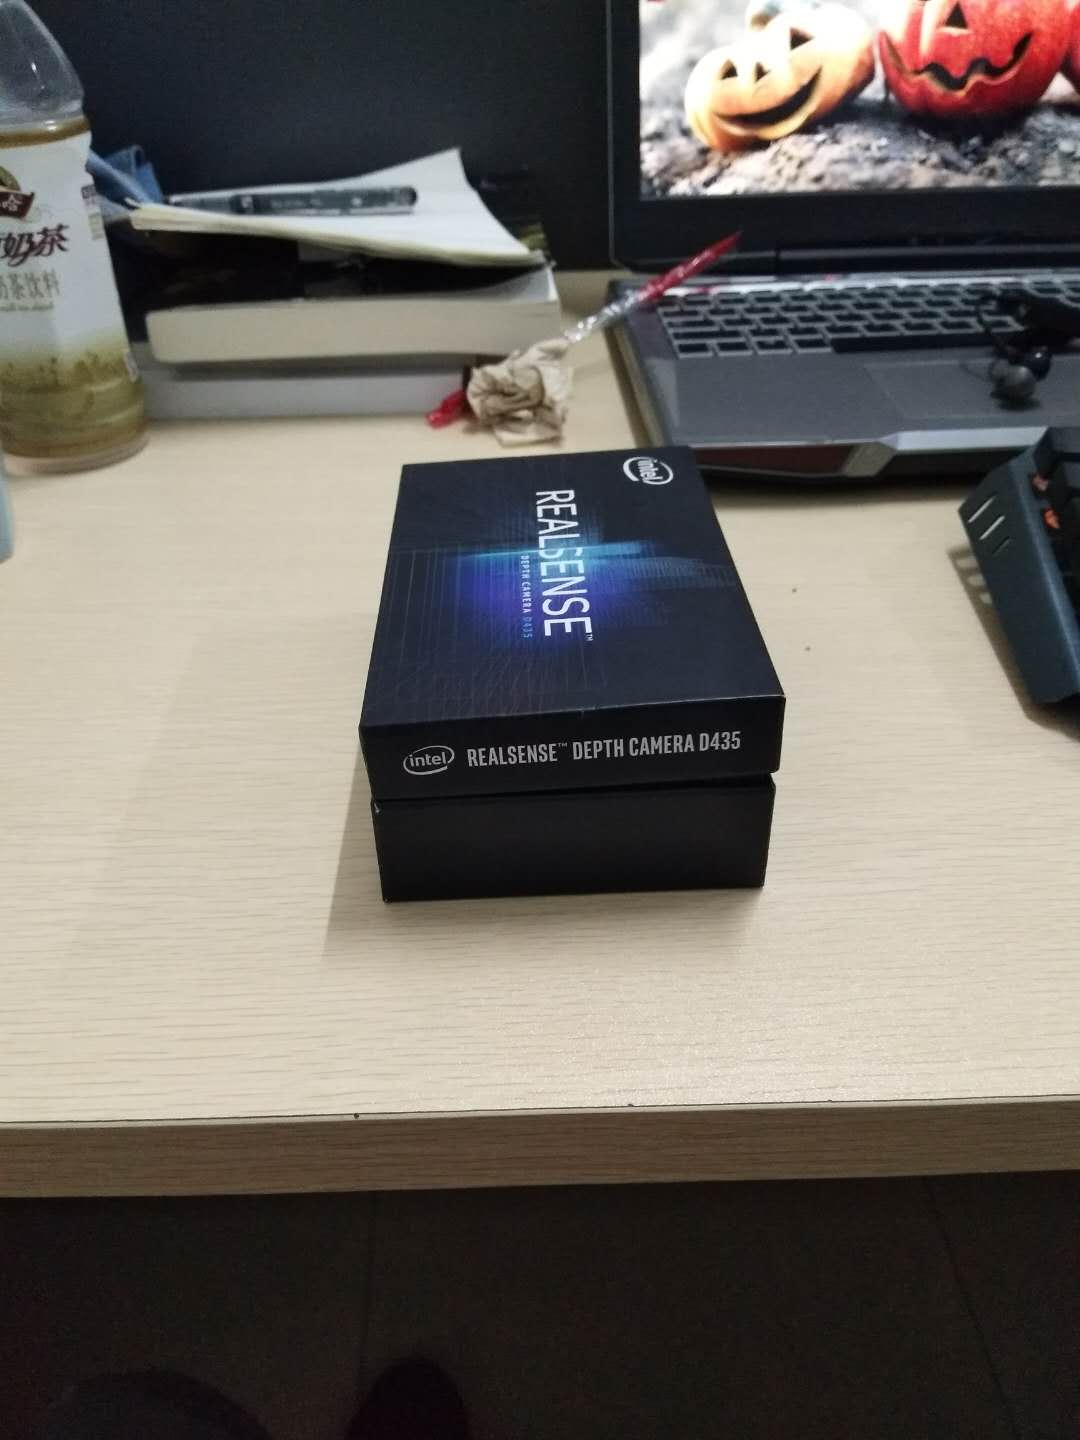box: (362, 444, 802, 922)
